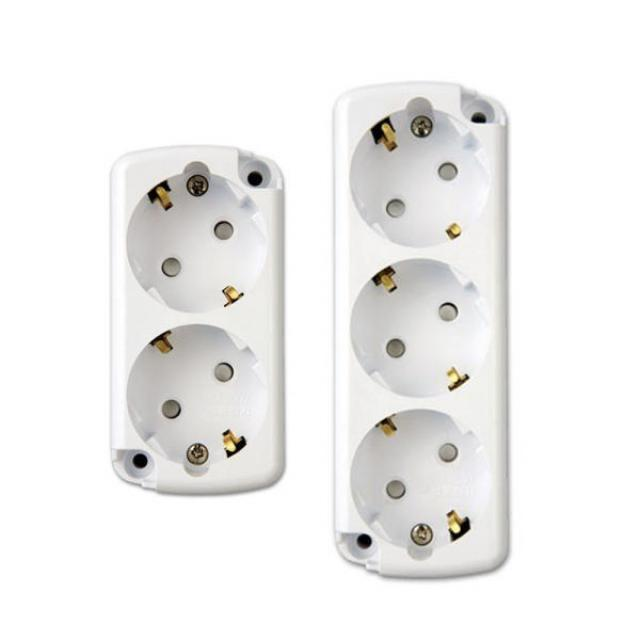typeb: (305, 55, 517, 606), (92, 130, 296, 568)
